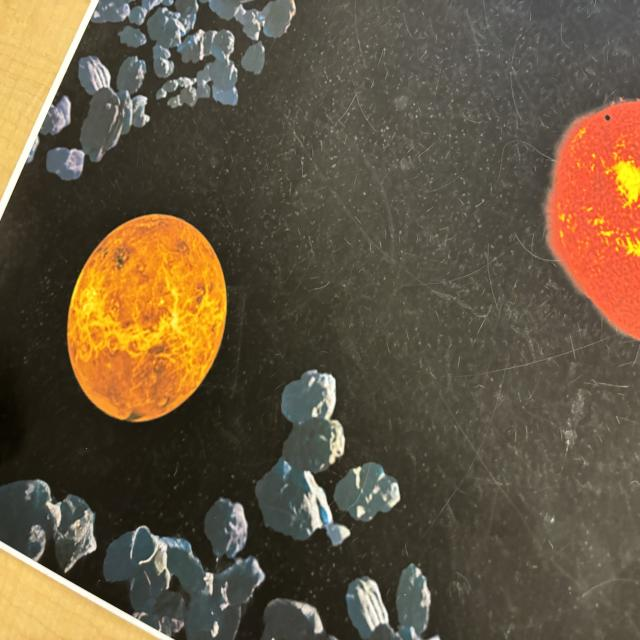Asteroids: (14, 399, 457, 640), (42, 0, 288, 168)
Sun: (544, 99, 640, 350)
Venus: (68, 212, 230, 420)
